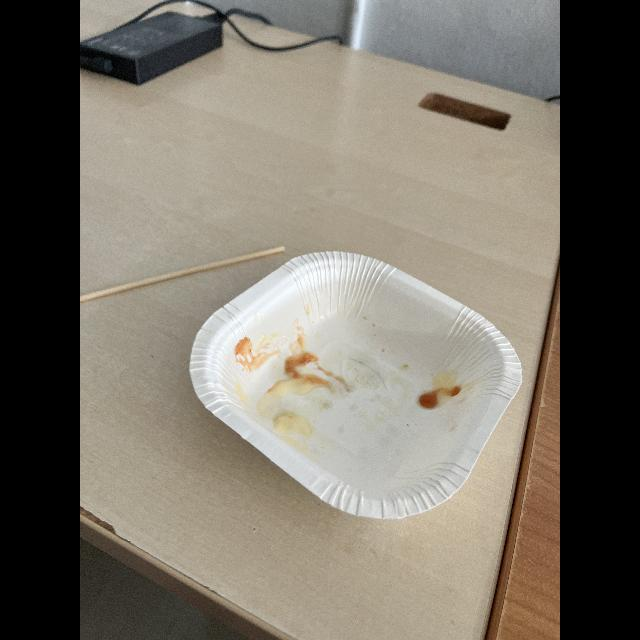cardboard_bowl: (185, 248, 529, 522)
stick: (80, 240, 286, 310)
